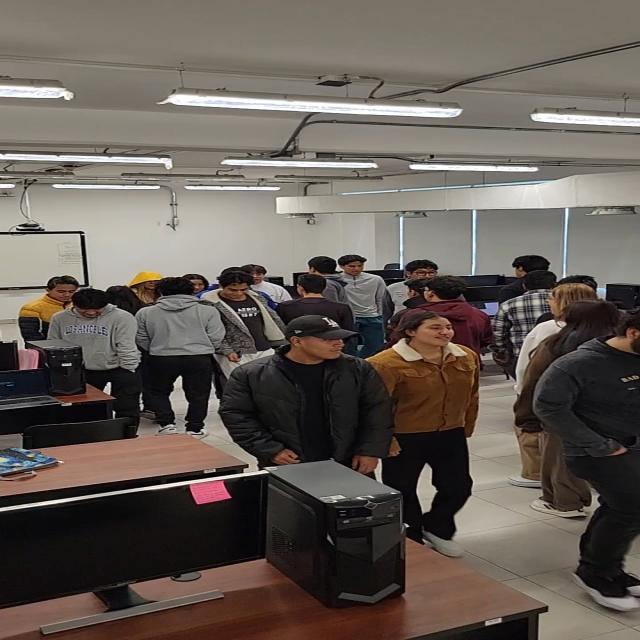Persona: (531, 311, 640, 618), (377, 310, 482, 559), (232, 314, 377, 472), (40, 287, 136, 430), (137, 277, 213, 440), (214, 270, 276, 357), (339, 252, 384, 342)
